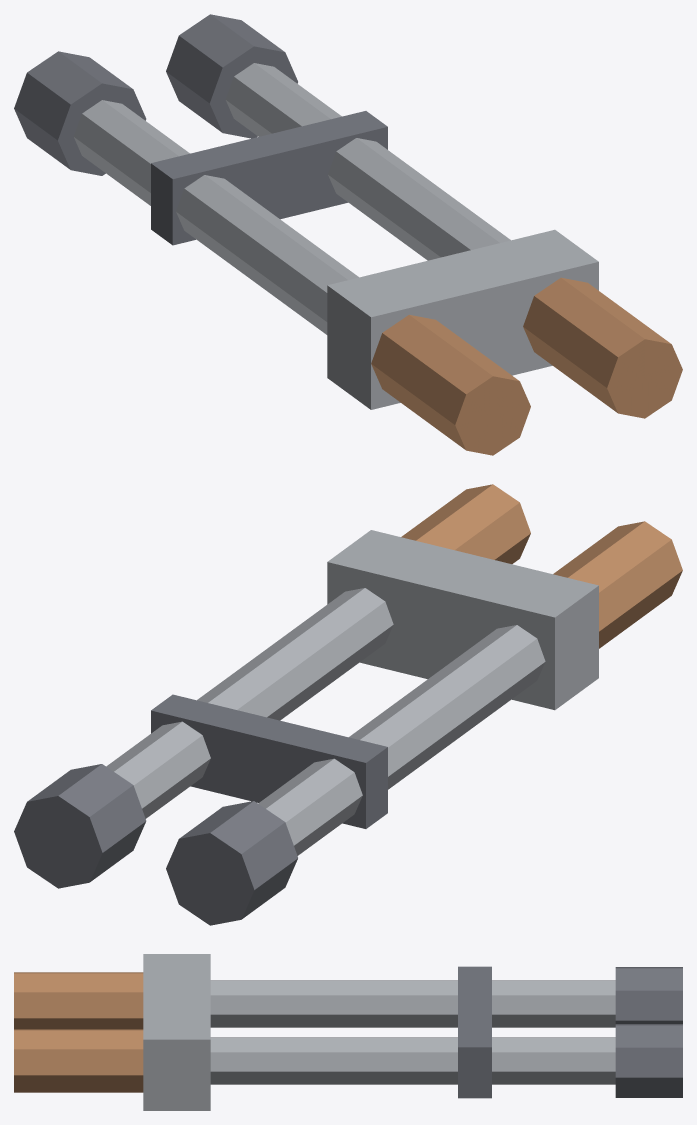
File: pdc_twin_barrel.glb
3 views of the same model, one above another, from view 1: azimuth 30°, elevation 25°; view 2: azimuth 150°, elevation 25°; view 3: azimuth 270°, elevation 25° (orthographic). The views are drawn at different scales.
Bounding box in the file's own units: 0.38 × 0.14 × 1.19.
